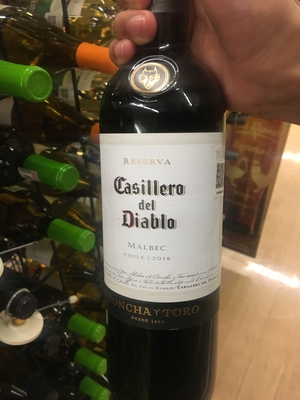casillero del diablo malbec: (96, 45, 230, 400)
